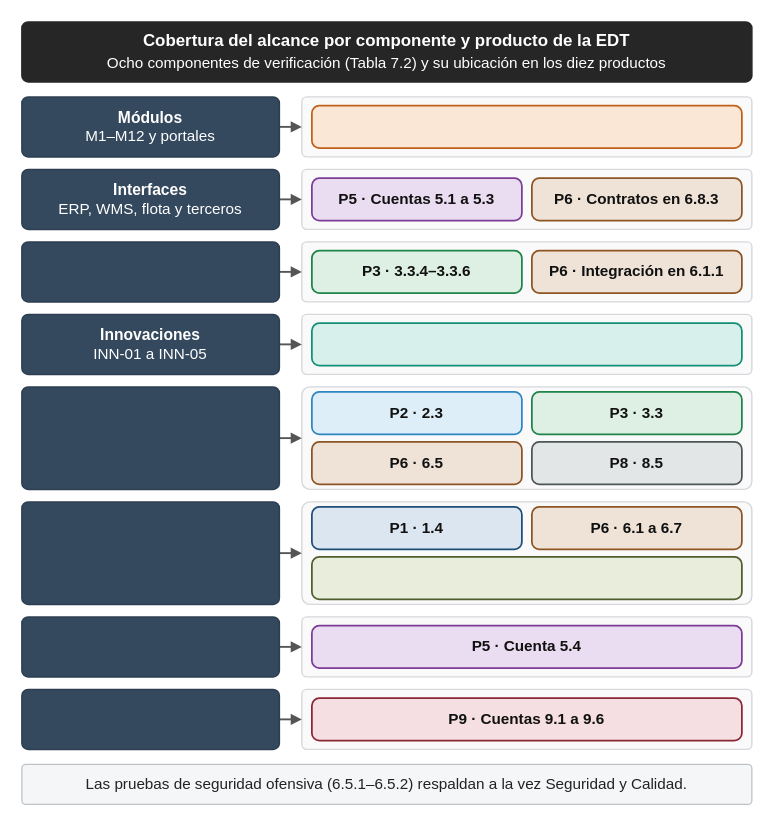
The diagram is 775 pixels wide and 828 high, and some of its shapes have lost their labels. Here are the shapes that lost their labels. From the top down, the centre of each, then its label:
At (x=526, y=126): "P4 · Cuentas 4.1 a 4.5".
At (x=150, y=271): "Servicios comunes Reglas, repositorio y plantillas".
At (x=526, y=344): "P7 · Cuentas 7.1 a 7.5".
At (x=150, y=437): "Seguridad Diseño, identidad, pruebas y física".
At (x=150, y=552): "Calidad Plan, puertas, pruebas y deuda".
At (x=526, y=577): "P10 · 10.2.4".
At (x=150, y=646): "Migración Perfilamiento, carga y corte".
At (x=150, y=719): "Implantación Olas, MB, capacitación y cambio".
